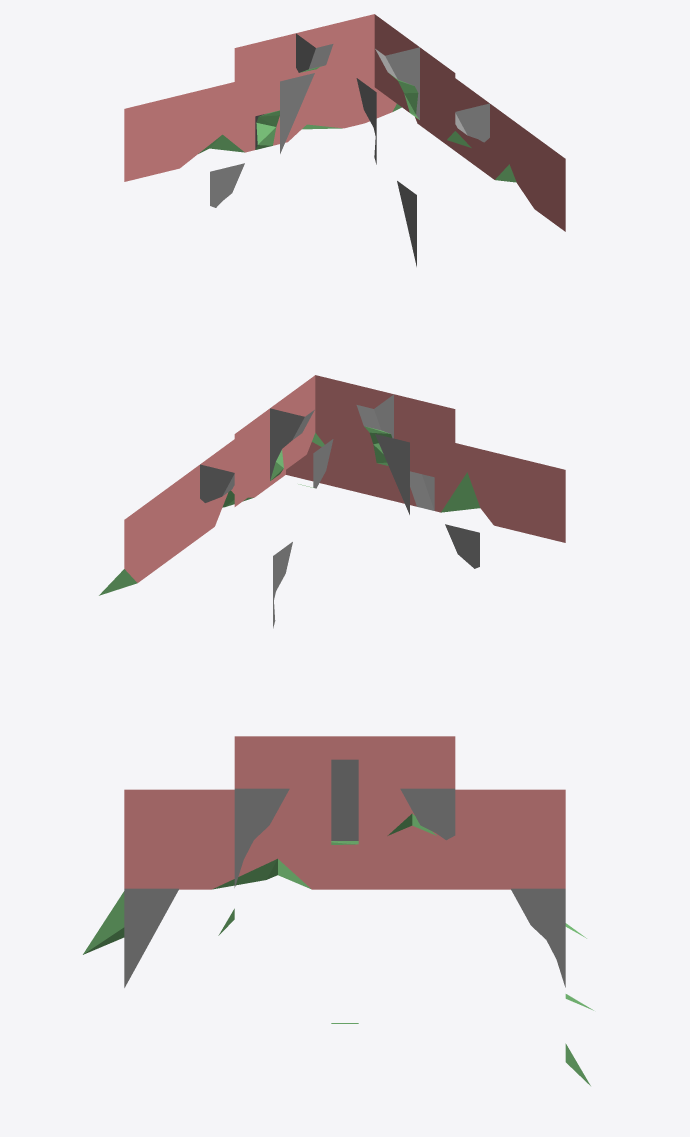
The model's file is SSQ_BRoom03_Top.gltf.
3 renders of one model, top to bottom at view 1: azimuth 30°, elevation 25°; view 2: azimuth 150°, elevation 25°; view 3: azimuth 270°, elevation 25°, orthographic. The views are drawn at different scales.
Parts seen in each view (by area): view 1: SSQ_BRoom03_Top; view 2: SSQ_BRoom03_Top; view 3: SSQ_BRoom03_Top.
Boxes of the visible parts, box(x1,y1,x2,y2) form: SSQ_BRoom03_Top: box(124, 14, 565, 266); SSQ_BRoom03_Top: box(99, 375, 565, 628); SSQ_BRoom03_Top: box(83, 736, 593, 1085).
Bounding box in the file's own units: 7.68 × 2.56 × 7.68.
